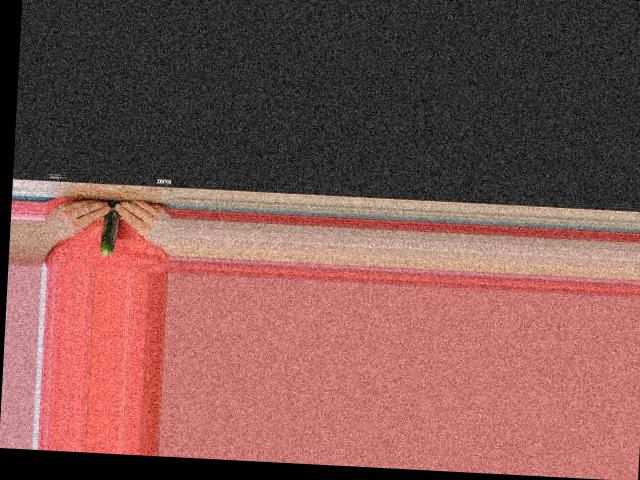cucumber: (98, 199, 119, 255)
